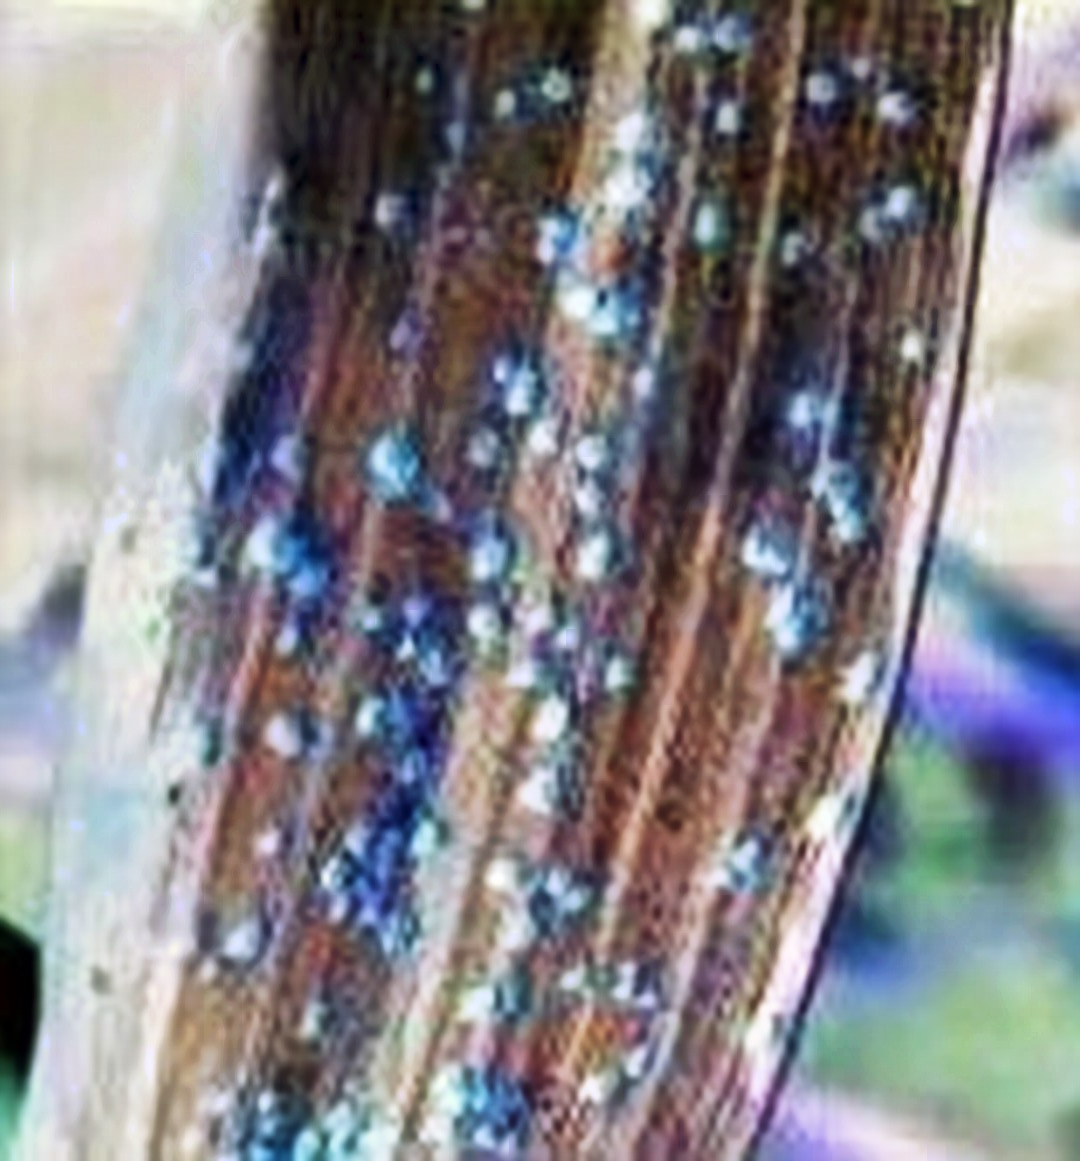Leaf Rust: (189, 69, 989, 1119)
